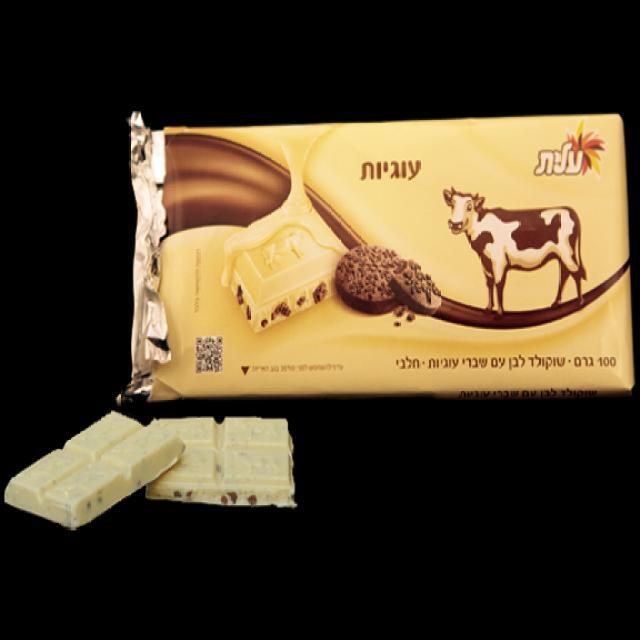Chocolate bar: (116, 111, 632, 394)
Chocolate bar packaged: (5, 409, 184, 533), (144, 412, 300, 508)
